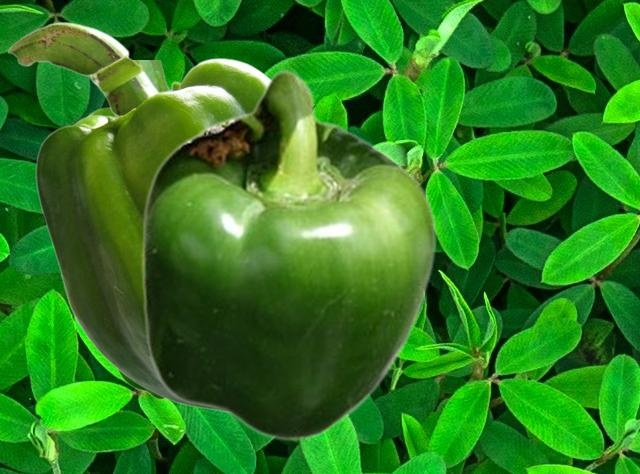bell_pepper: (140, 69, 436, 441), (7, 21, 268, 411), (84, 60, 169, 399)
